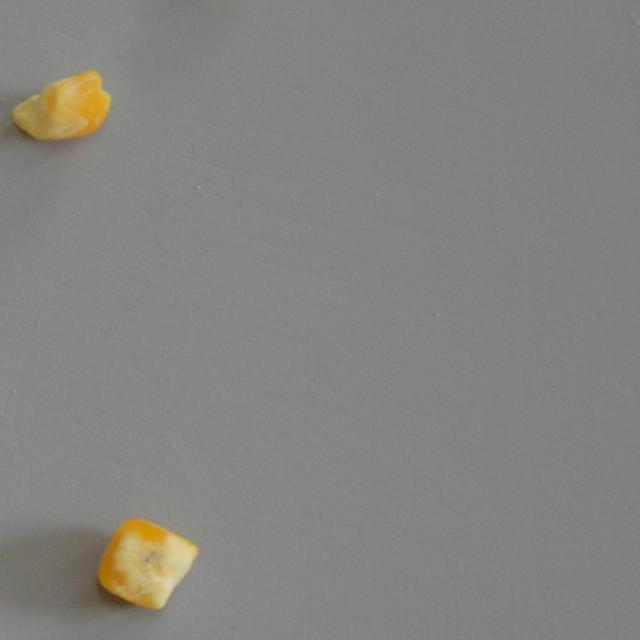dañado: (96, 516, 200, 613), (6, 66, 116, 146)
